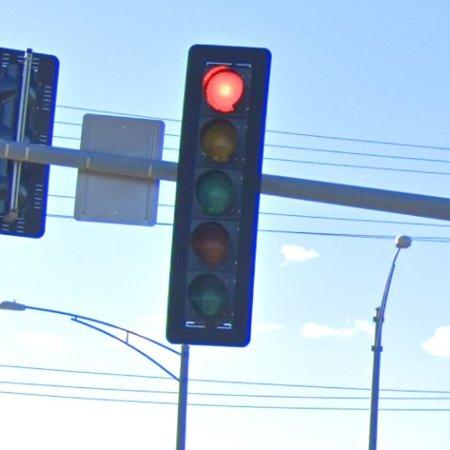traffic lights: (167, 45, 272, 346)
